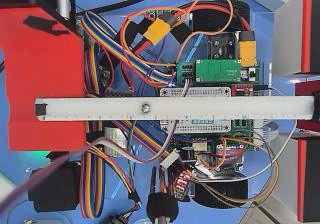ironball: (139, 102, 150, 114)
